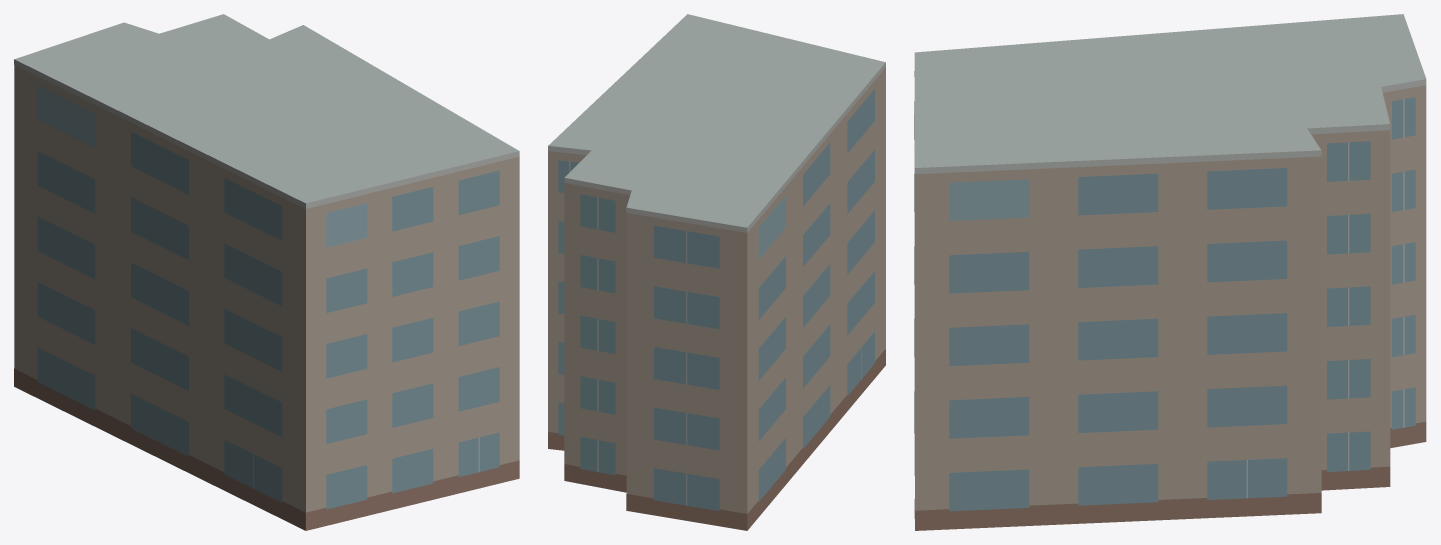
The model's file is survey-upis-32910512.glb.
The picture shows the model from 3 angles, left to right: view 1: azimuth 30°, elevation 25°; view 2: azimuth 150°, elevation 25°; view 3: azimuth 270°, elevation 25°; orthographic projection. The views are drawn at different scales.
Visible parts, largest first — view 1: survey-upis-32910512.tmp; view 2: survey-upis-32910512.tmp; view 3: survey-upis-32910512.tmp.
Part boxes in pixels (<box>): survey-upis-32910512.tmp: <box>14,14,519,530</box>; survey-upis-32910512.tmp: <box>548,14,885,530</box>; survey-upis-32910512.tmp: <box>914,14,1426,530</box>.
Size of the model in its own units: 13.13 by 14.4 by 18.42.
